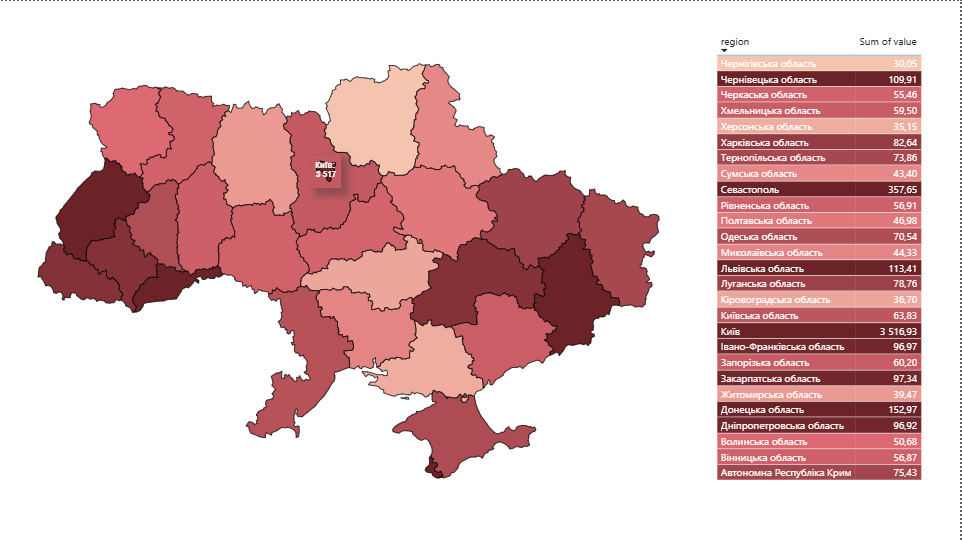

The dashboard page shown, as its layout file describes it:
{"tool":"powerbi","page":{"name":"Сторінка 1","canvas":[1280,720],"ordinal":0},"visuals":[{"type":"shapeMap","fields":{"Value":["Sum(Sheet1.Густота, осіб/кв.км.)"],"Category":["Sheet1.Область/Регіон"]},"box":[0,0,930,720],"z":0},{"type":"card","fields":{"Values":["_calc.Київ lbl"]},"box":[414.4,204.4,40,44.4],"z":2000},{"type":"tableEx","fields":{"Values":["region_tbl.region","Sum(region_tbl.value)"]},"box":[950,38.3,293.3,611.7],"z":2001}]}

Visuals, with their boxes in screenshot pixels (x1, y1, x2, y2), scaled from the page's 1280x720 canvas onto the 962x540 screenshot:
shapeMap - Sum(Sheet1.Густота, осіб/кв.км.) x Sheet1.Область/Регіон: [left=0, top=0, right=699, bottom=539]
card - _calc.Київ lbl: [left=311, top=153, right=342, bottom=187]
tableEx - region_tbl.region x Sum(region_tbl.value): [left=714, top=29, right=934, bottom=488]
